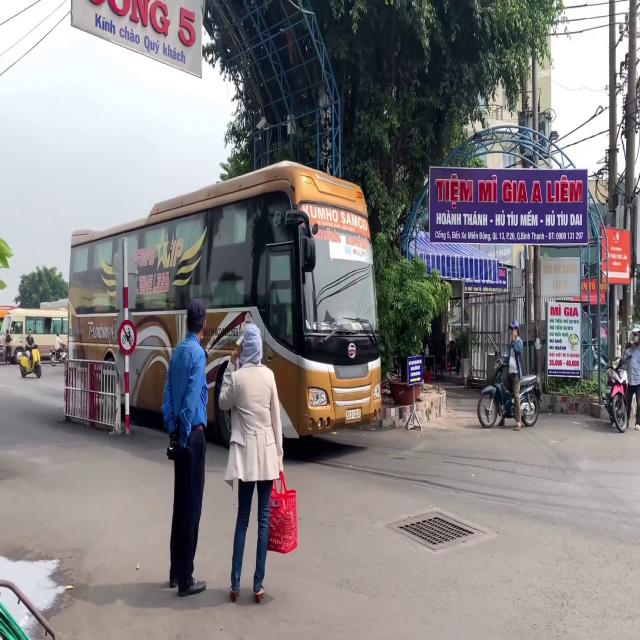bien_trang: (345, 409, 361, 419)
